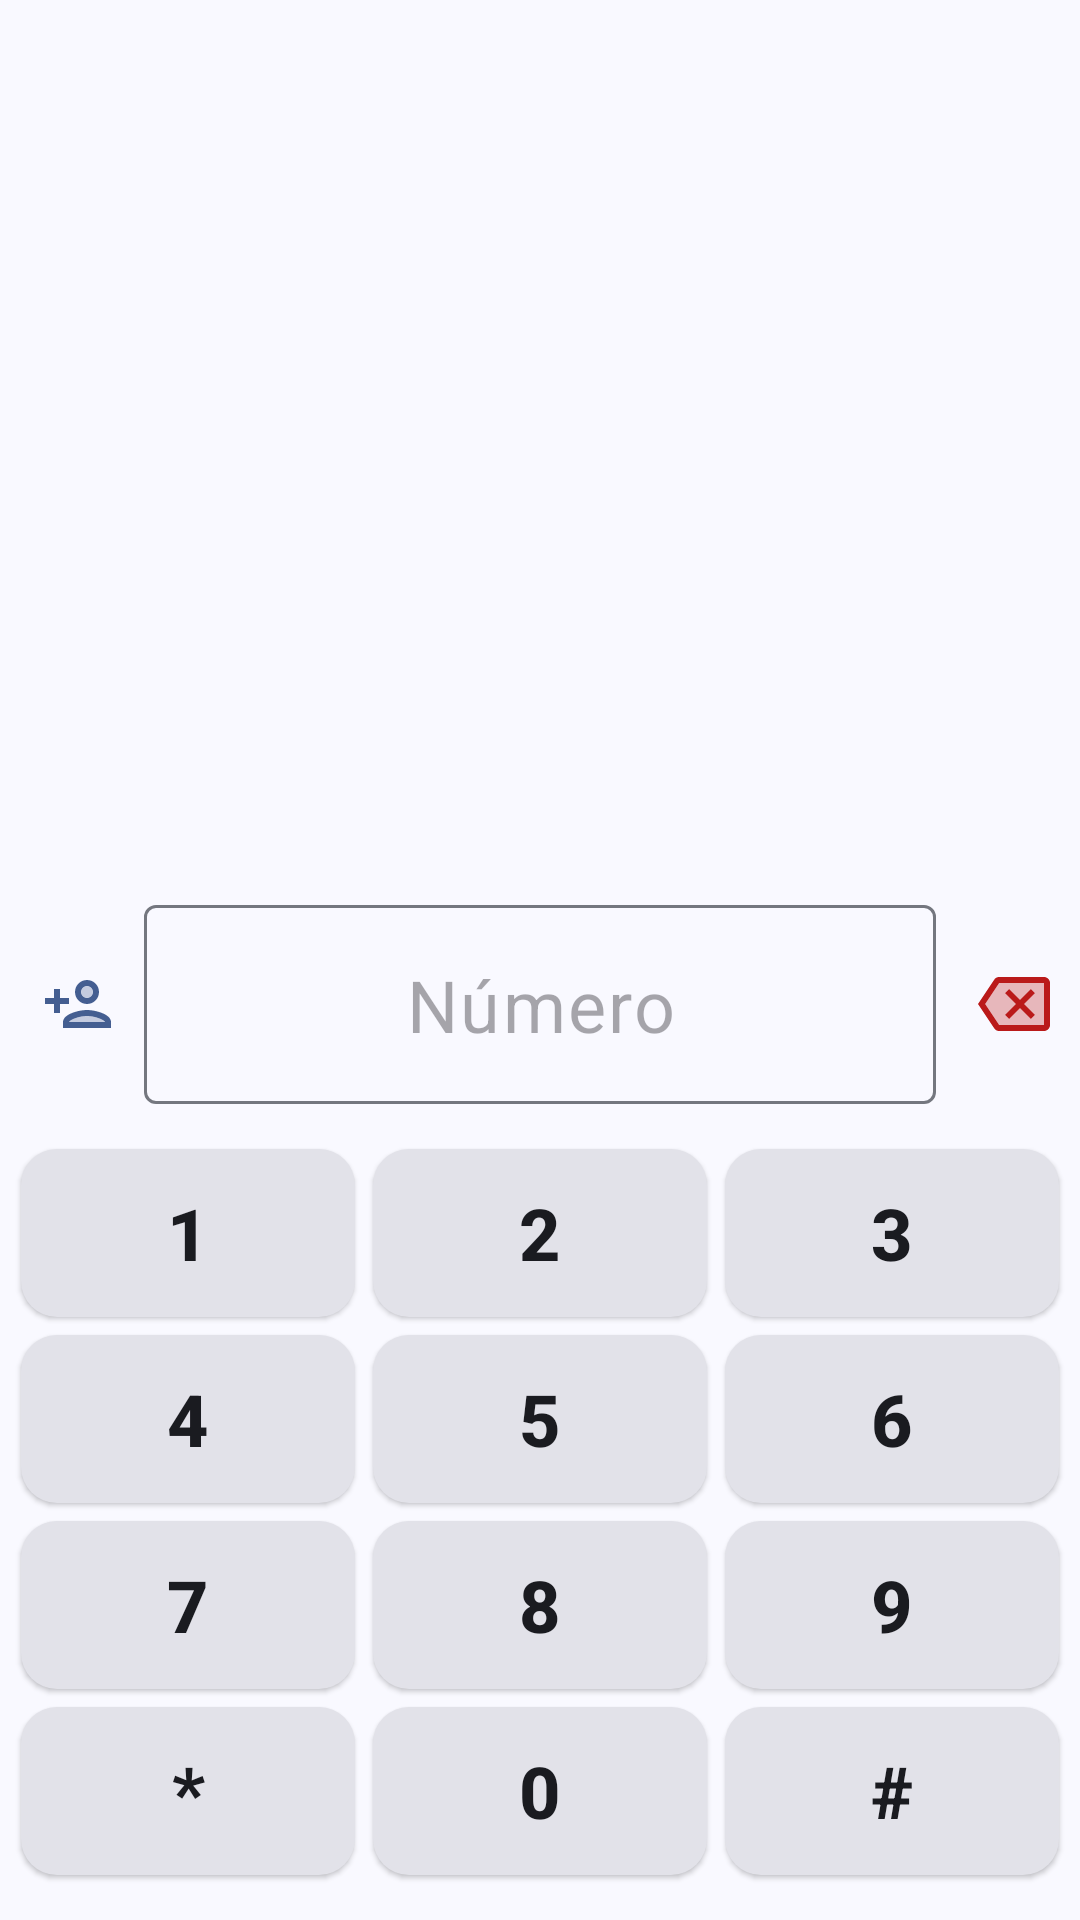

Named icons in this screenshot (1080*1920) and their bounding boxes, (left=x1, top=y1, right=x2, bottom=y2):
Agregar nuevo contacto: (left=45, top=980, right=111, bottom=1028)
Borrar dígito: (left=978, top=977, right=1050, bottom=1031)
